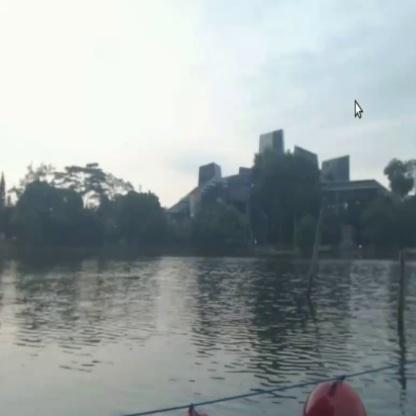red_buoy: (305, 381, 369, 415)
